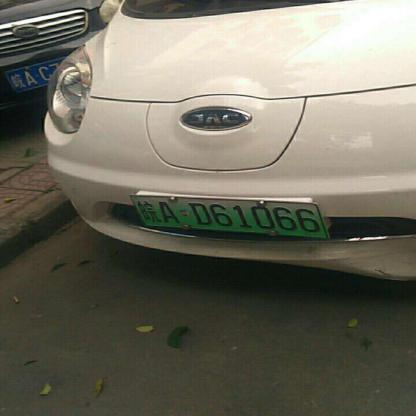lp: (130, 195, 326, 236)
